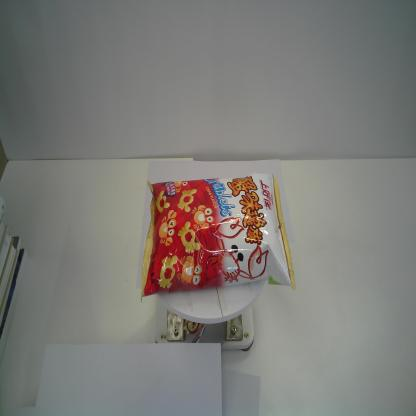Puffed Food: (140, 172, 296, 303)
